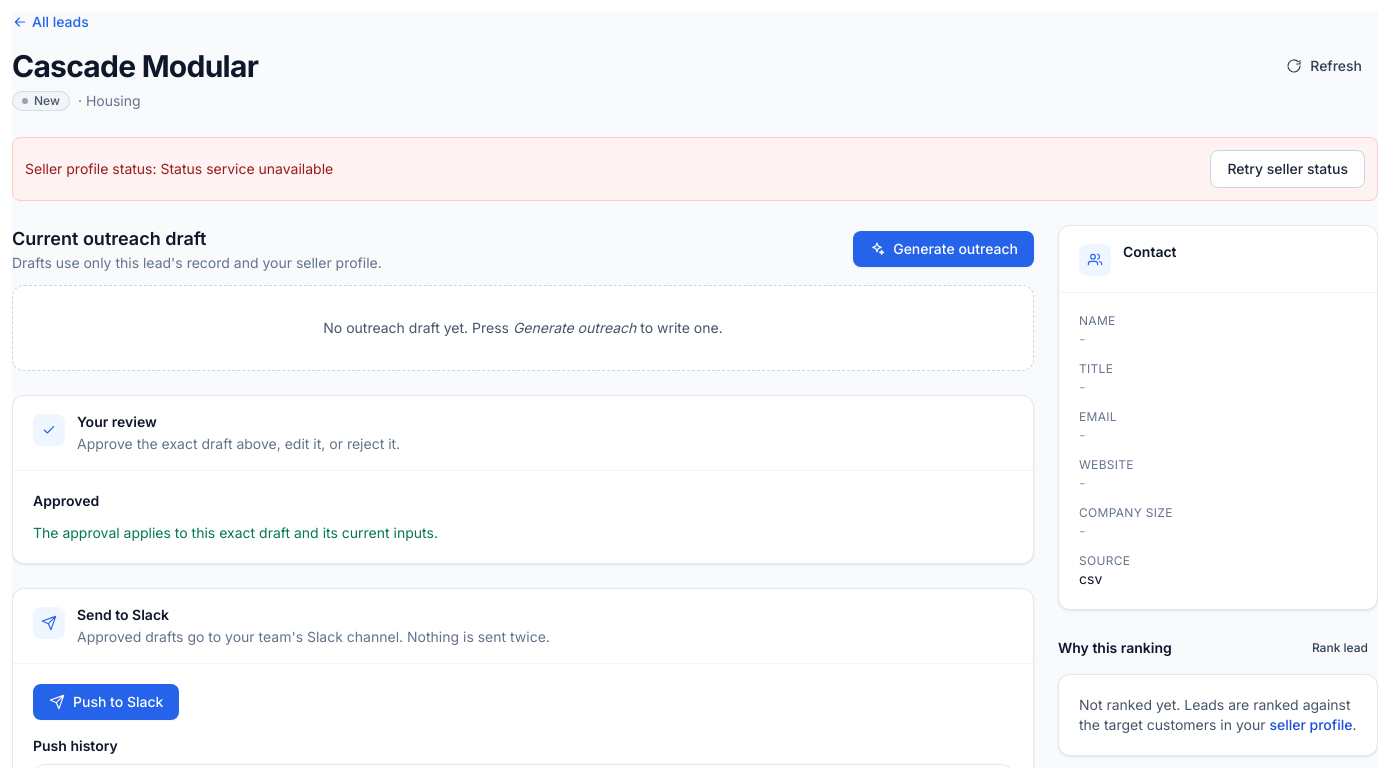
Test: lead page grounded generation › a seller-status failure does not hide the lead and can be retried
Expected: the text "Seller profile status: Status service unavailable" is shown, [25,160,333,177]
Expected: the heading "Cascade Modular" is shown, [12,48,258,84]
Click the button "Retry seller status": [1288, 169] box [1210,150,1365,188]
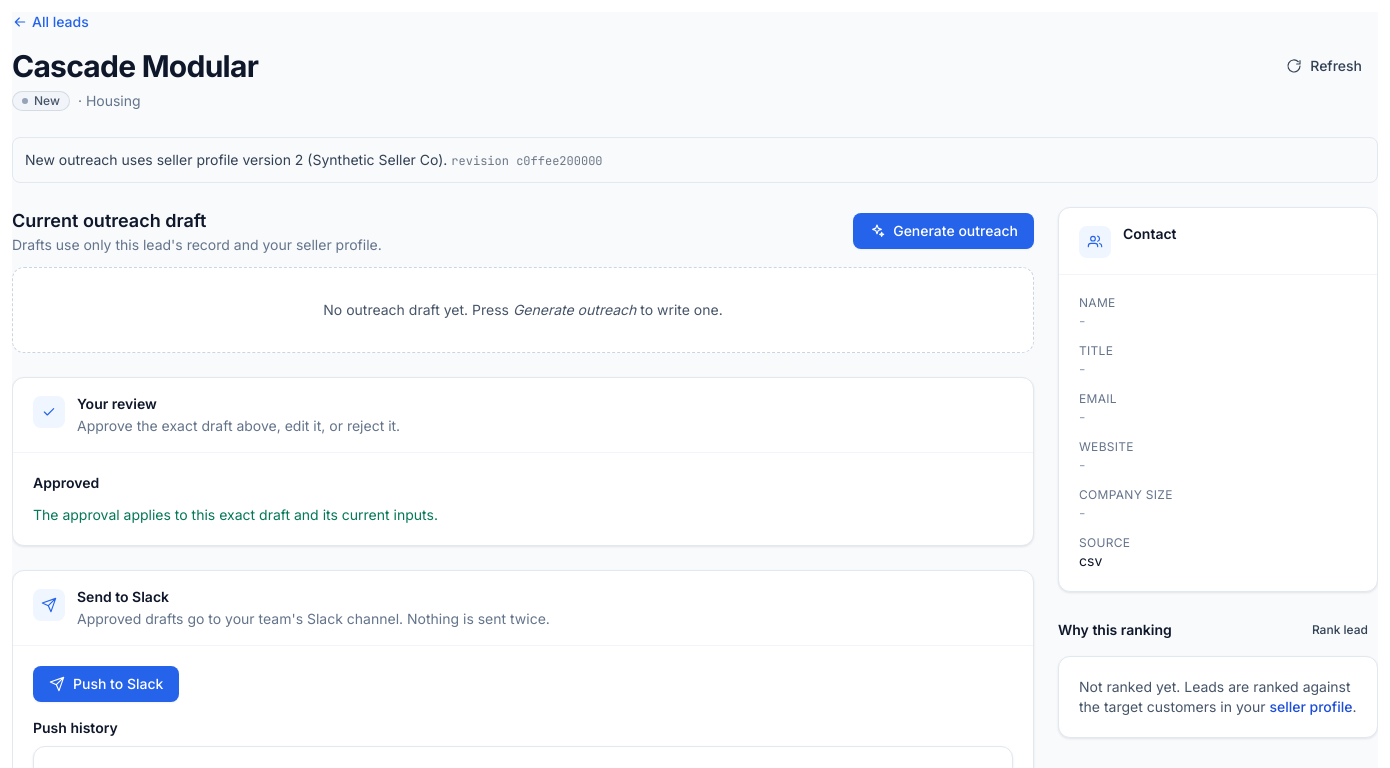
Expected: the text "New outreach uses seller profile version 2" is shown, [12,137,1378,183]
